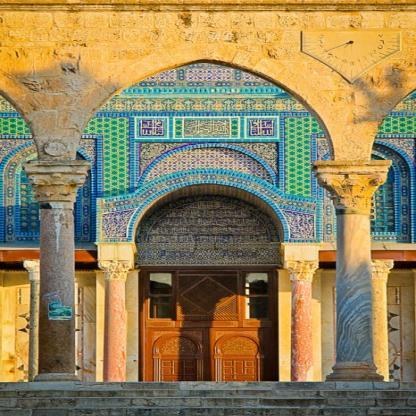Building Outline: (0, 0, 415, 415)
Cornice: (95, 168, 320, 261)
Door: (148, 328, 271, 390)
Facade: (0, 0, 415, 415)
Floor Slab: (0, 243, 415, 249)
Ground Floor: (0, 250, 415, 382)
Pillar: (311, 160, 393, 382), (21, 161, 91, 382), (97, 260, 134, 382), (283, 261, 319, 382)
Top Floor: (0, 0, 415, 243)
Window: (246, 296, 269, 318), (150, 296, 172, 318), (246, 273, 269, 294), (150, 273, 172, 294)
